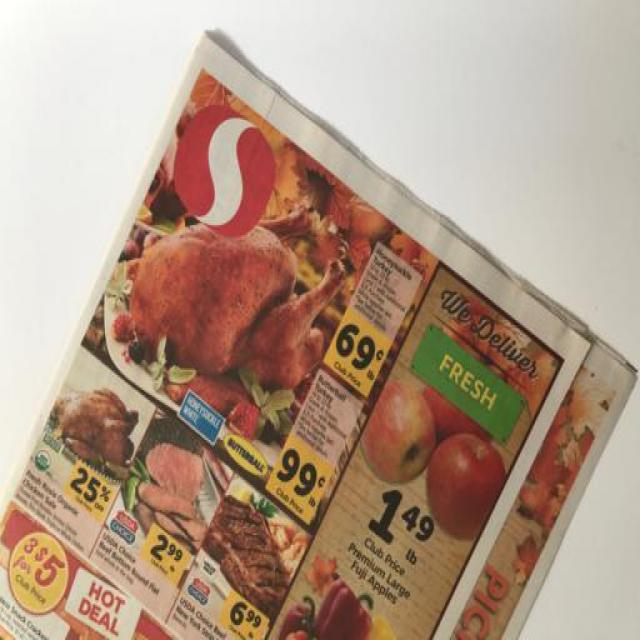paper: (1, 14, 640, 640)
